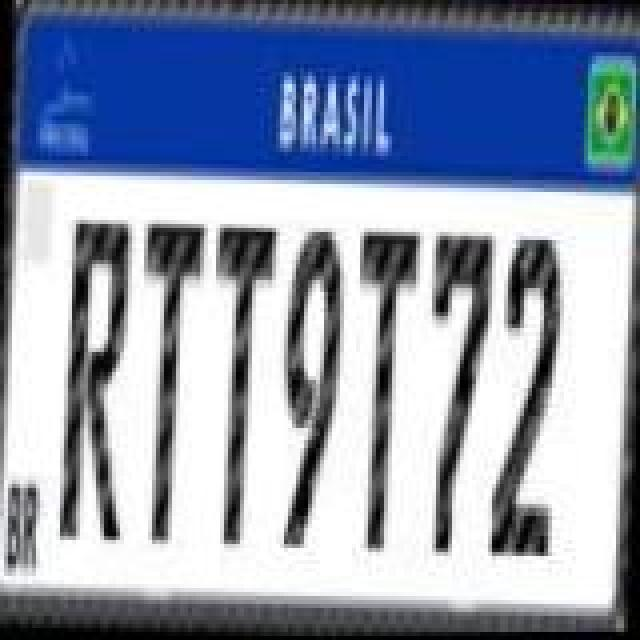2: (486, 230, 566, 566)
7: (418, 228, 498, 556)
9: (272, 220, 348, 556)
R: (58, 212, 138, 544)
T: (128, 218, 204, 550), (344, 224, 420, 556), (200, 224, 276, 552)
